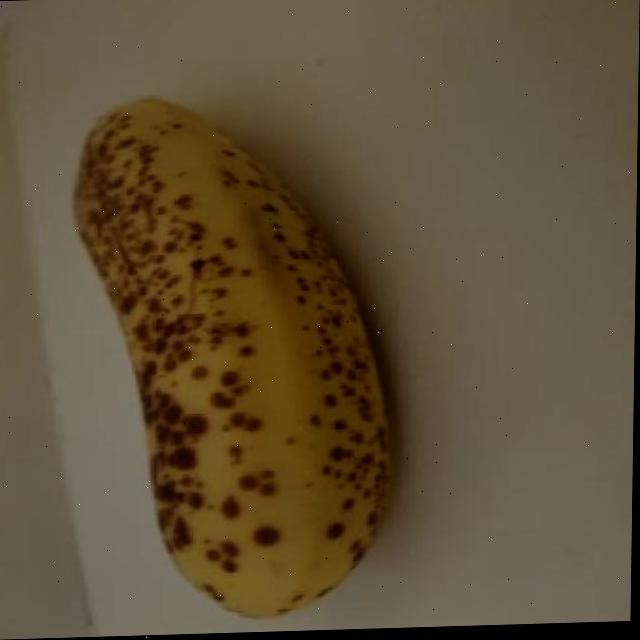banana: (58, 87, 394, 628)
